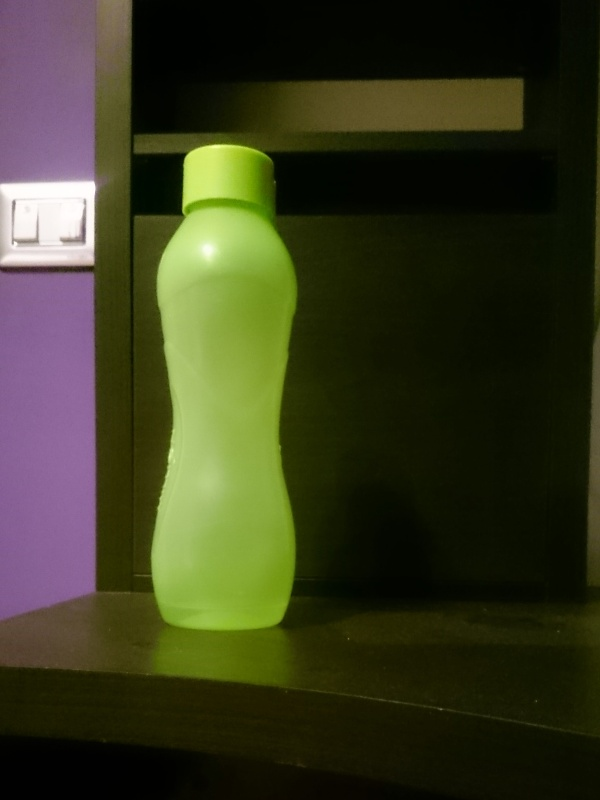my bottle: (153, 145, 295, 633)
